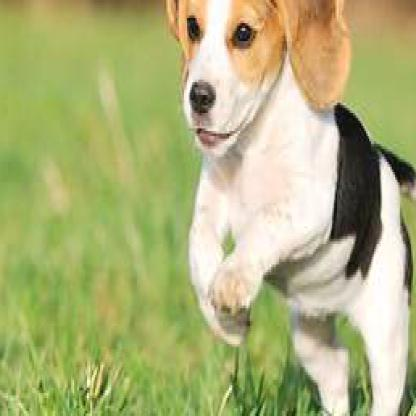dog: (162, 0, 415, 414)
